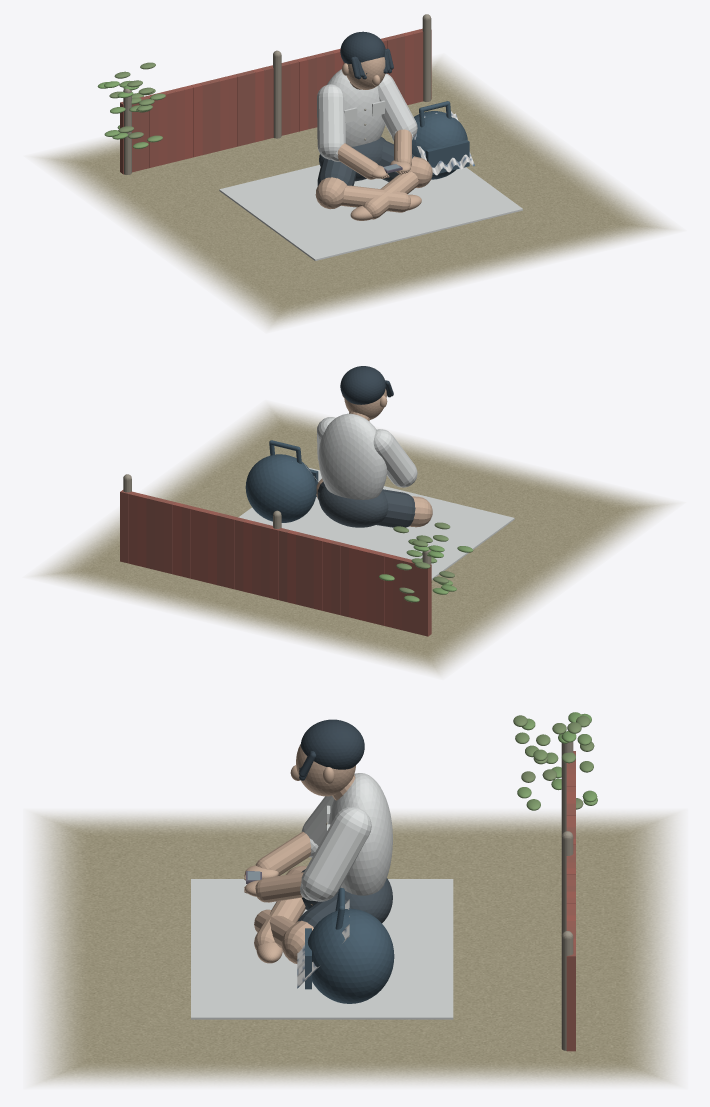
The model's file is game_scene.glb.
The picture shows the model from 3 angles, top to bottom: view 1: azimuth 30°, elevation 25°; view 2: azimuth 150°, elevation 25°; view 3: azimuth 270°, elevation 25°; orthographic projection. The views are drawn at different scales.
Parts seen in each view (by area): view 1: ground_soft_fade, picnic_mat, shirt_torso, upper_sleeve-1, travel_bag, upper_sleeve1, hair_cap, crossed_shin-1, crossed_shin1, bag_pocket, fence_post1.8, forearm-1 (+30 smaller); view 2: ground_soft_fade, picnic_mat, shirt_torso, travel_bag, hips, upper_sleeve-1, hair_cap, short_leg-1, corrugated_fence-1.8, corrugated_fence1.0588235294117647, corrugated_fence-1.0588235294117647, corrugated_fence0.5294117647058825 (+32 smaller); view 3: ground_soft_fade, picnic_mat, travel_bag, shirt_torso, upper_sleeve1, hair_cap, forearm-1, head, forearm1, hips, corrugated_fence1.8, crossed_shin-1 (+7 smaller).
Boxes of the visible parts, x1,y1,x2,y2 form: ground_soft_fade: (34,58,675,328); picnic_mat: (219,165,522,260); shirt_torso: (327,69,385,146); upper_sleeve-1: (317,84,345,159); travel_bag: (412,111,467,179); upper_sleeve1: (377,73,417,137); hair_cap: (340,31,385,63); crossed_shin-1: (341,185,410,212); crossed_shin1: (363,171,418,219); bag_pocket: (425,140,469,175); fence_post1.8: (422,14,431,101); forearm-1: (337,143,379,179); ground_soft_fade: (33,404,674,675); picnic_mat: (238,467,514,579); shirt_torso: (318,413,387,499); travel_bag: (245,454,316,522); hips: (319,486,388,527); upper_sleeve-1: (373,429,417,487); hair_cap: (340,366,385,404); short_leg-1: (376,489,415,527); corrugated_fence-1.8: (419,564,431,636); corrugated_fence1.0588235294117647: (181,504,193,578); corrugated_fence-1.0588235294117647: (357,547,369,621); corrugated_fence0.5294117647058825: (225,515,237,589); ground_soft_fade: (34,813,676,1084); picnic_mat: (191,879,453,1019); travel_bag: (308,908,394,1003); shirt_torso: (328,773,392,895); upper_sleeve1: (301,806,371,901); hair_cap: (300,719,364,769); forearm-1: (255,831,311,875); head: (296,744,355,796); forearm1: (255,872,303,902); hips: (317,878,392,922); corrugated_fence1.8: (566,950,575,1051); crossed_shin-1: (254,897,305,949).
Size of the model in its own units: 5.2 by 1.94 by 5.2.
Materials: 1 (1 with a texture image).
